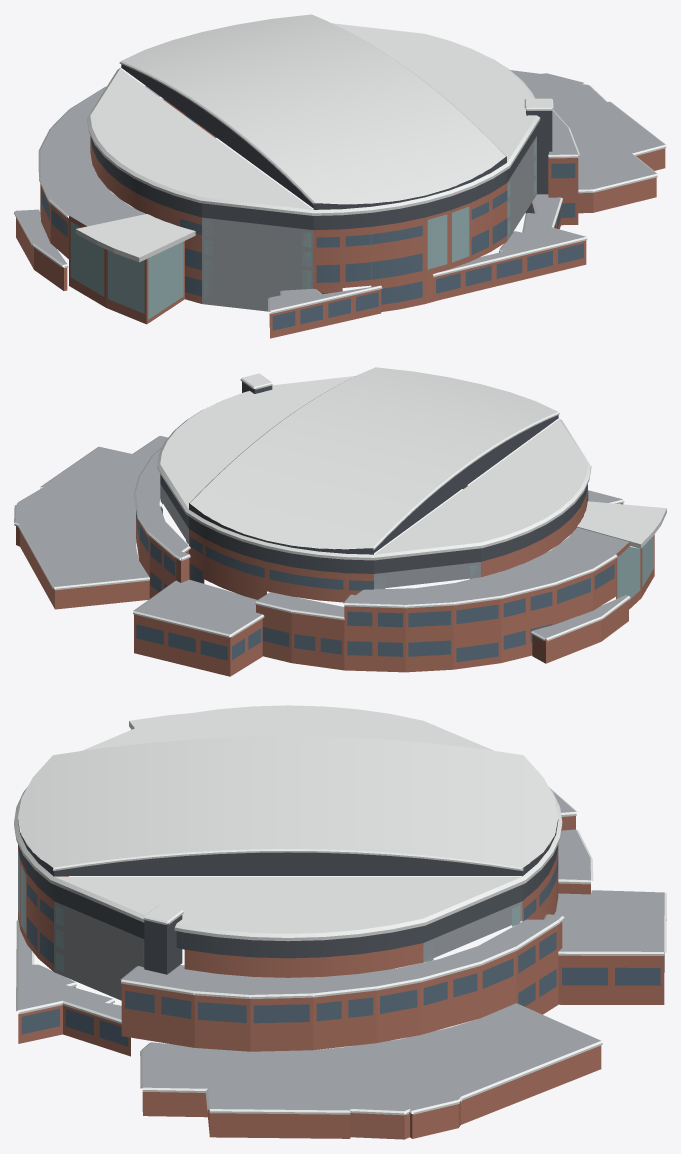
File: spectrum-center.glb
The picture shows the model from 3 angles, top to bottom: view 1: azimuth 30°, elevation 25°; view 2: azimuth 150°, elevation 25°; view 3: azimuth 270°, elevation 25°; orthographic projection. The views are drawn at different scales.
Visible parts, largest first — view 1: Spectrum Center; view 2: Spectrum Center; view 3: Spectrum Center.
Part boxes in pixels (box(x1,y1,x2,y2)): Spectrum Center: box(14, 14, 666, 338); Spectrum Center: box(14, 367, 666, 676); Spectrum Center: box(14, 705, 666, 1139).
Bounding box in the file's own units: 209 × 44 × 167.
